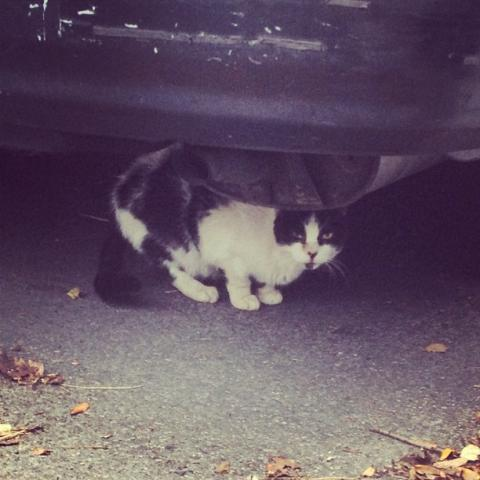car: (2, 4, 478, 207)
